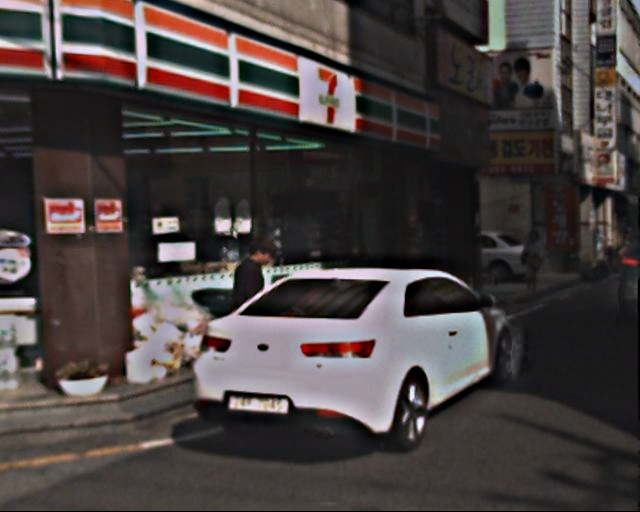person: (231, 231, 289, 372), (521, 230, 558, 297)
